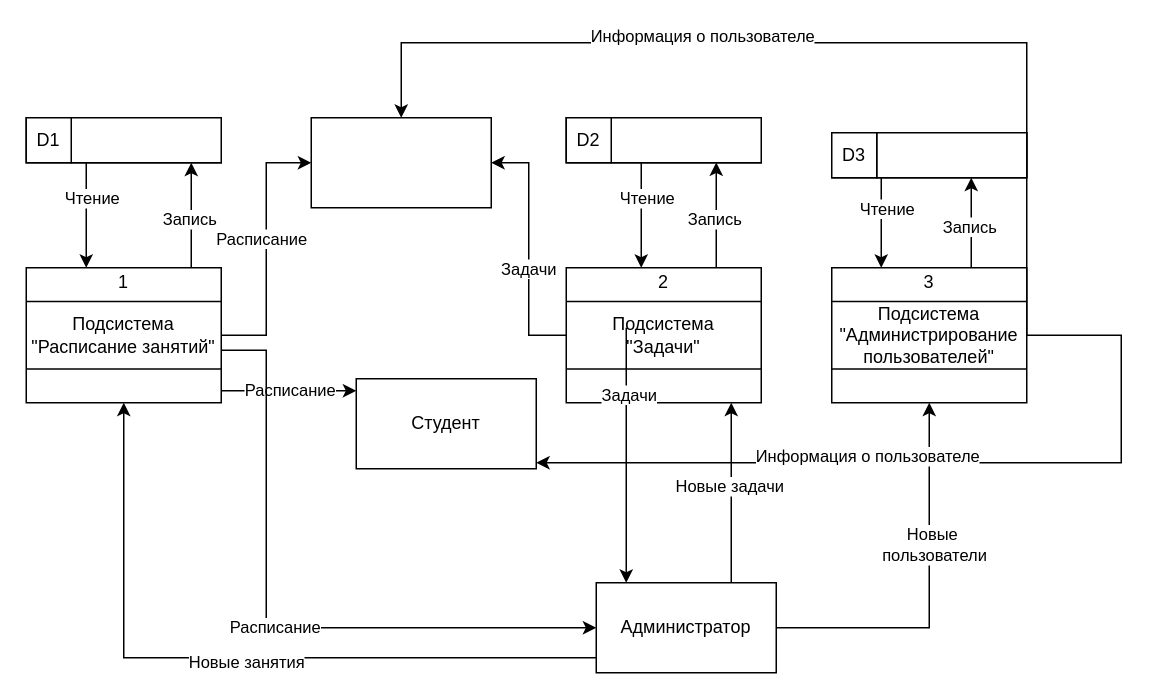
This 1160x699 diagram has some shape labels left out. Here are the shapes that lost their labels. From the top down, the centre of each, then its label:
(145,139): Таблица "Занятия"
(685,139): Таблица "Задачи"
(951,154): Таблица "Пользователи"
(400,162): Преподаватель
